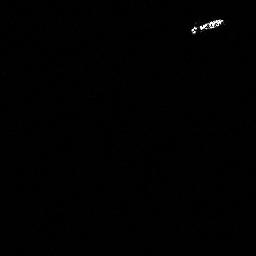ship: (190, 18, 225, 34)
